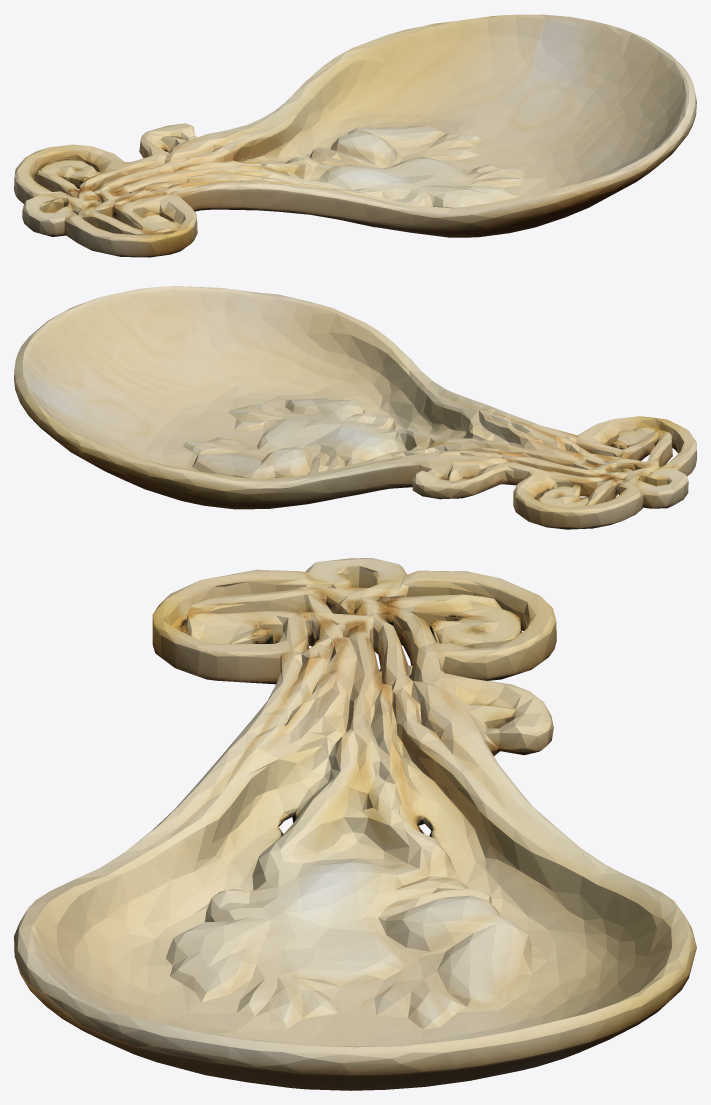
File: carved-bone-spoon-vintage.jpeg.glb
3 views of the same model, one above another, from view 1: azimuth 30°, elevation 25°; view 2: azimuth 150°, elevation 25°; view 3: azimuth 270°, elevation 25° (orthographic). The views are drawn at different scales.
Visible parts, largest first — view 1: world; view 2: world; view 3: world.
Part boxes in pixels (x1,y1,x2,y2): world: (14, 14, 696, 257); world: (14, 286, 696, 529); world: (14, 558, 696, 1090).
Bounding box in the file's own units: 0.9983 × 0.1189 × 0.5642.
Materials: 1 (1 with a texture image).
